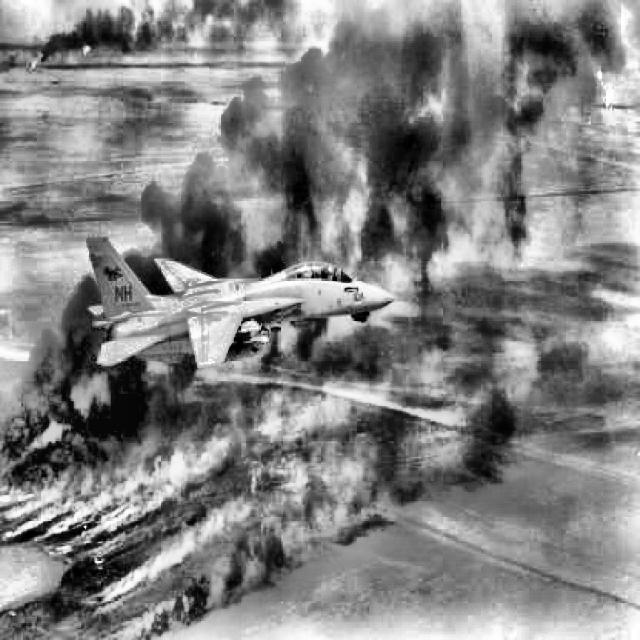F14: (85, 238, 398, 368)
